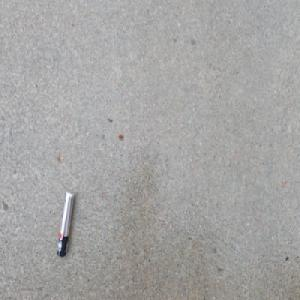Battery: (54, 188, 74, 258)
